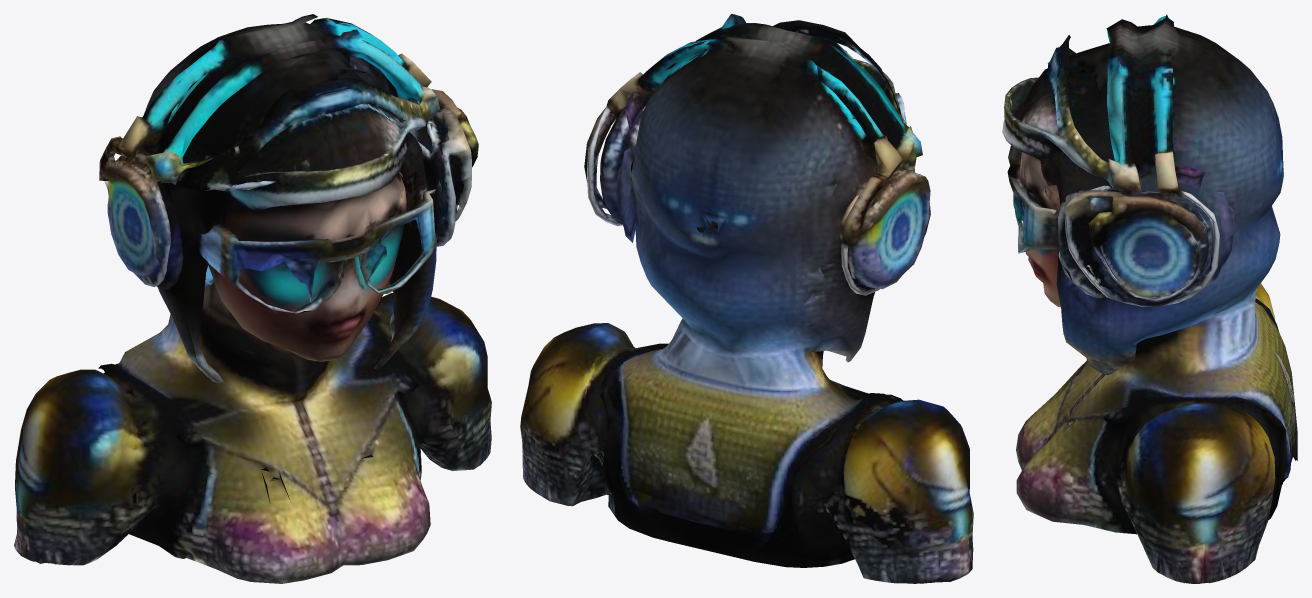
File: modello.glb
The picture shows the model from 3 angles, left to right: view 1: azimuth 30°, elevation 25°; view 2: azimuth 150°, elevation 25°; view 3: azimuth 270°, elevation 25°; orthographic projection. The views are drawn at different scales.
Parts seen in each view (by area): view 1: agente; view 2: agente; view 3: agente.
Boxes of the visible parts, x1,y1,x2,y2 form: agente: (14,14,491,583); agente: (520,14,973,583); agente: (1002,14,1297,583).
Size of the model in its own units: 0.9956 by 1 by 0.5984.
Materials: 1 (1 with a texture image).
